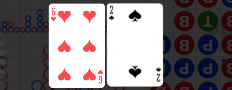10H: (51, 7, 58, 24)
AC: (108, 5, 115, 22)
